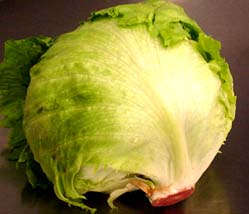cabbage: (1, 0, 236, 209)
